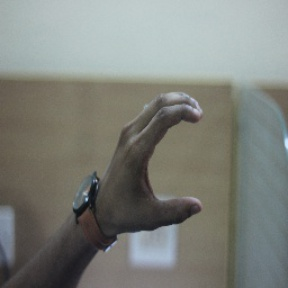C: (106, 85, 220, 238)
